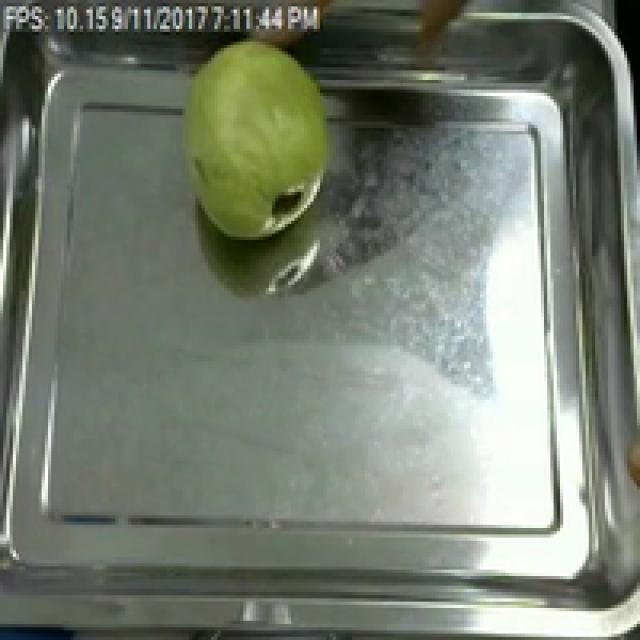Fruit: (167, 26, 346, 250)
